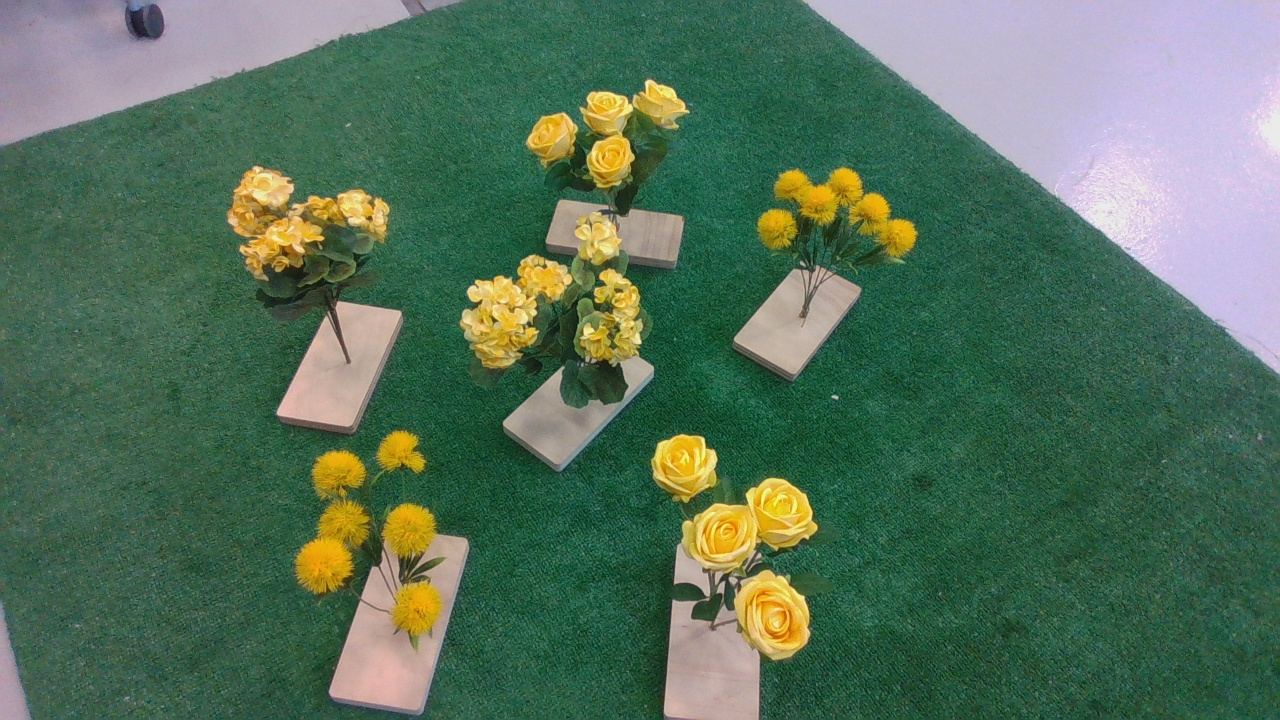dandelion: (293, 423, 463, 662), (751, 160, 950, 288)
geranium: (459, 212, 662, 413), (219, 149, 405, 331)
rose: (630, 434, 830, 672), (521, 82, 699, 203)
